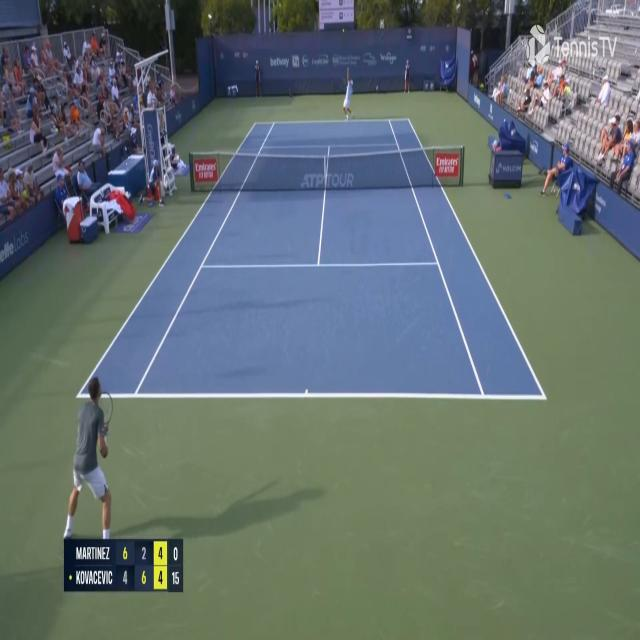tennis-player: (62, 351, 115, 556), (342, 63, 354, 121)
